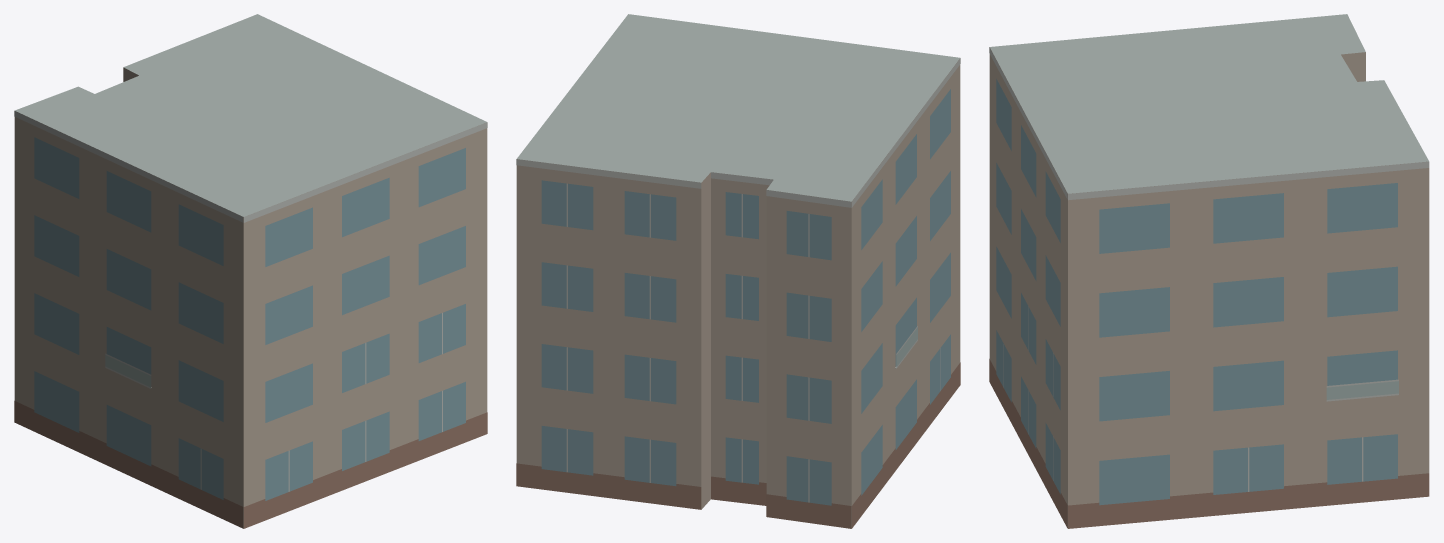
The model's file is survey-upis-32683433.glb.
The picture shows the model from 3 angles, left to right: view 1: azimuth 30°, elevation 25°; view 2: azimuth 150°, elevation 25°; view 3: azimuth 270°, elevation 25°; orthographic projection. The views are drawn at different scales.
Visible parts, largest first — view 1: survey-upis-32683433.tmp; view 2: survey-upis-32683433.tmp; view 3: survey-upis-32683433.tmp.
Part boxes in pixels (<box>): survey-upis-32683433.tmp: <box>14,14,487,528</box>; survey-upis-32683433.tmp: <box>516,14,960,528</box>; survey-upis-32683433.tmp: <box>989,14,1429,528</box>.
Size of the model in its own units: 14.74 by 12.8 by 15.24.
